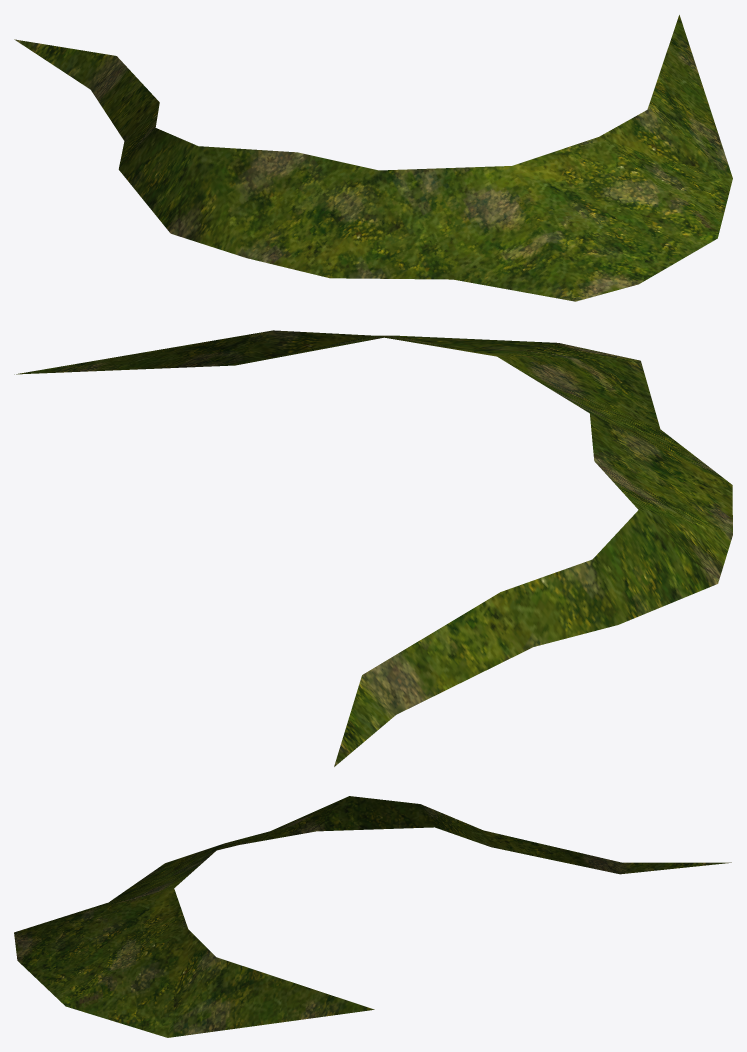
File: OVERHILL_A_01_LINE67.fbx
The picture shows the model from 3 angles, top to bottom: view 1: azimuth 30°, elevation 25°; view 2: azimuth 150°, elevation 25°; view 3: azimuth 270°, elevation 25°; orthographic projection. The views are drawn at different scales.
Visible parts, largest first — view 1: OVERHILL_A_01_LINE67; view 2: OVERHILL_A_01_LINE67; view 3: OVERHILL_A_01_LINE67.
Boxes of the visible parts, <box> form: OVERHILL_A_01_LINE67: <box>14,15,732,301</box>; OVERHILL_A_01_LINE67: <box>14,330,732,766</box>; OVERHILL_A_01_LINE67: <box>14,796,731,1037</box>.
Bounding box in the file's own units: 36695 × 4326 × 47641.
Materials: 1 (1 with a texture image).
